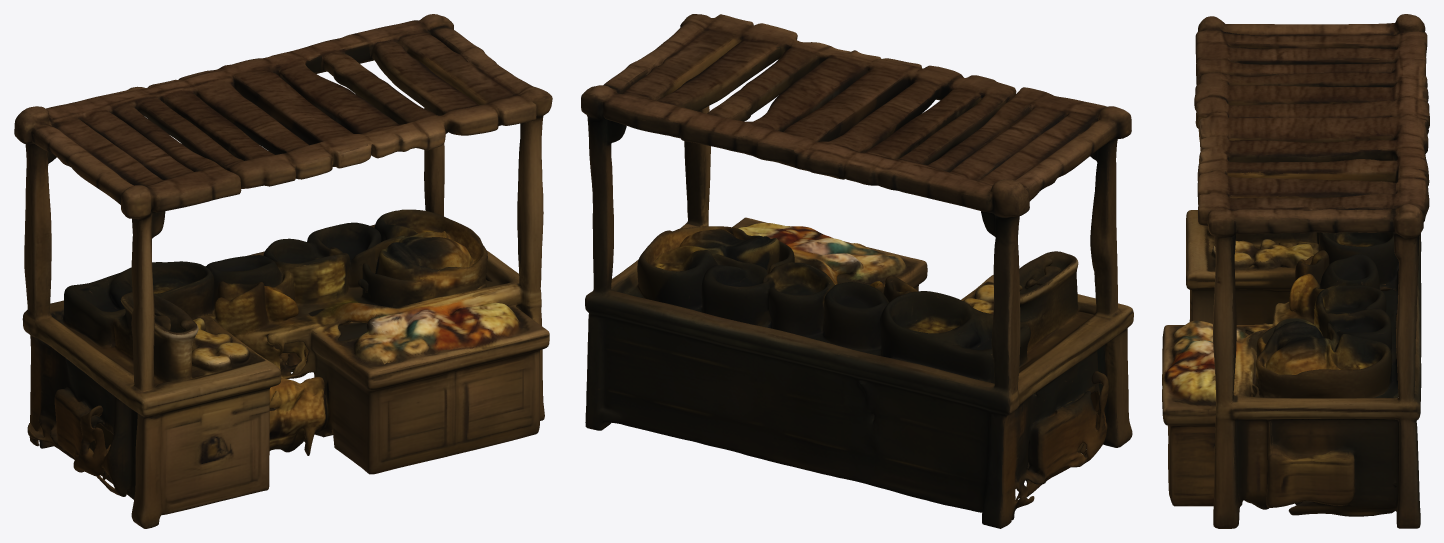
The model's file is market_stall_crates.glb.
3 renders of one model, left to right at view 1: azimuth 30°, elevation 25°; view 2: azimuth 150°, elevation 25°; view 3: azimuth 270°, elevation 25°, orthographic. The views are drawn at different scales.
Parts seen in each view (by area): view 1: world; view 2: world; view 3: world.
Part boxes in pixels (x1,y1,x2,y2): world: [14, 14, 552, 528]; world: [581, 14, 1133, 528]; world: [1162, 14, 1429, 528].
Bounding box in the file's own units: 1 × 0.7419 × 0.5513.
1 material, 1 textured.
